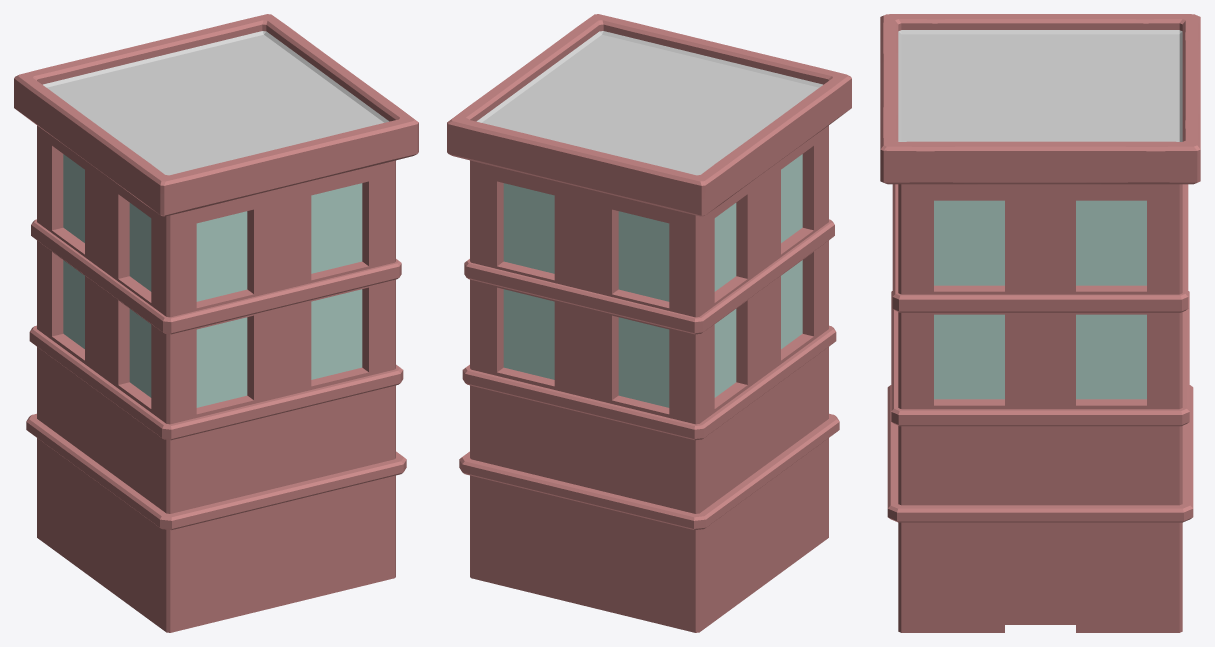
File: BasicBuilding.fbx
3 views of the same model, side by side, from view 1: azimuth 30°, elevation 25°; view 2: azimuth 150°, elevation 25°; view 3: azimuth 270°, elevation 25° (orthographic). The views are drawn at different scales.
Parts seen in each view (by area): view 1: Immeuble; view 2: Immeuble; view 3: Immeuble.
Boxes of the visible parts, x1,y1,x2,y2 form: Immeuble: (14,14,418,632); Immeuble: (447,14,851,632); Immeuble: (880,14,1200,632).
Bounding box in the file's own units: 4.5 × 7.64 × 4.5.
